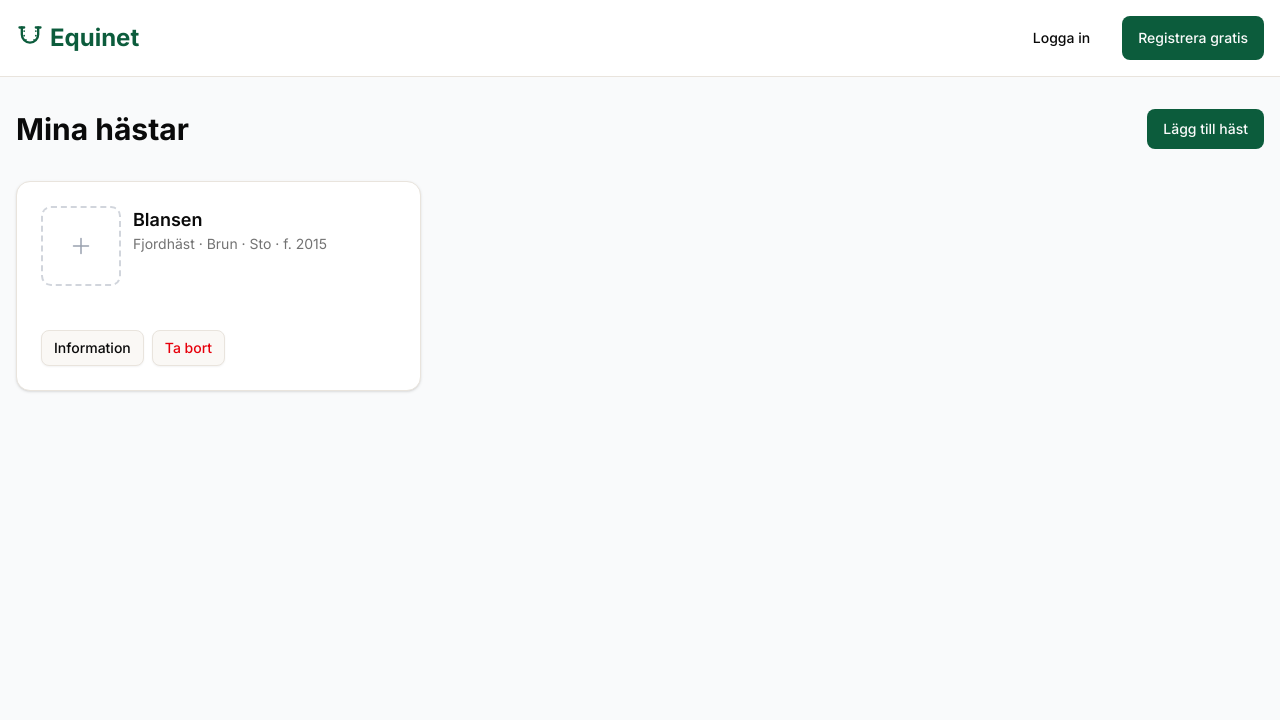
CustomerHorsesPage › opens delete confirmation dialog when 'Ta bort' is clicked
The width and height of the screenshot is (1280, 720).
# Use getAllByRole + [0] to avoid ambiguity if dialog is already in DOM
Click the button "Ta bort". click: (188, 348)
box: left=152, top=330, right=225, bottom=366
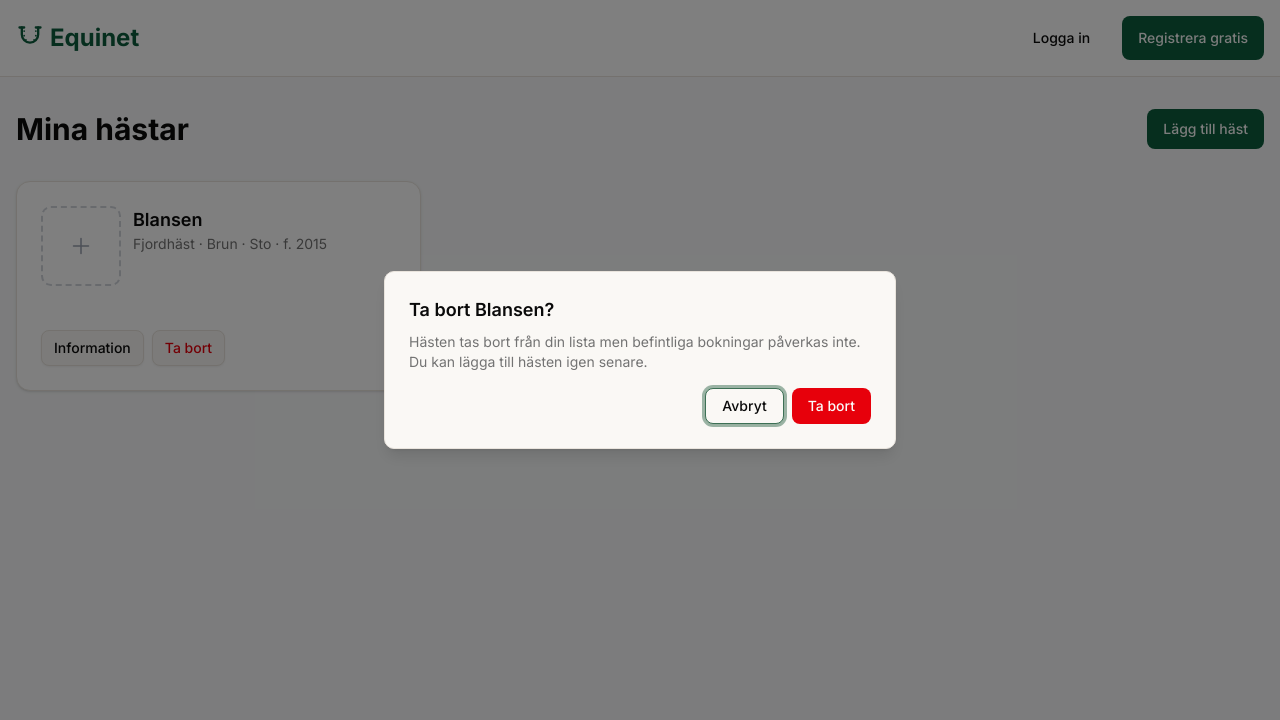
Now the heading "Ta bort Blansen?" is shown, box left=409, top=299, right=554, bottom=320
Now the text "befintliga bokningar" is shown, box left=409, top=333, right=861, bottom=370
